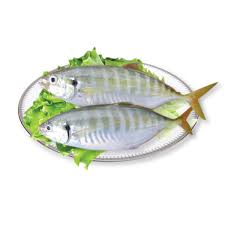Ikan Selar: (39, 69, 215, 113), (41, 104, 194, 149)
